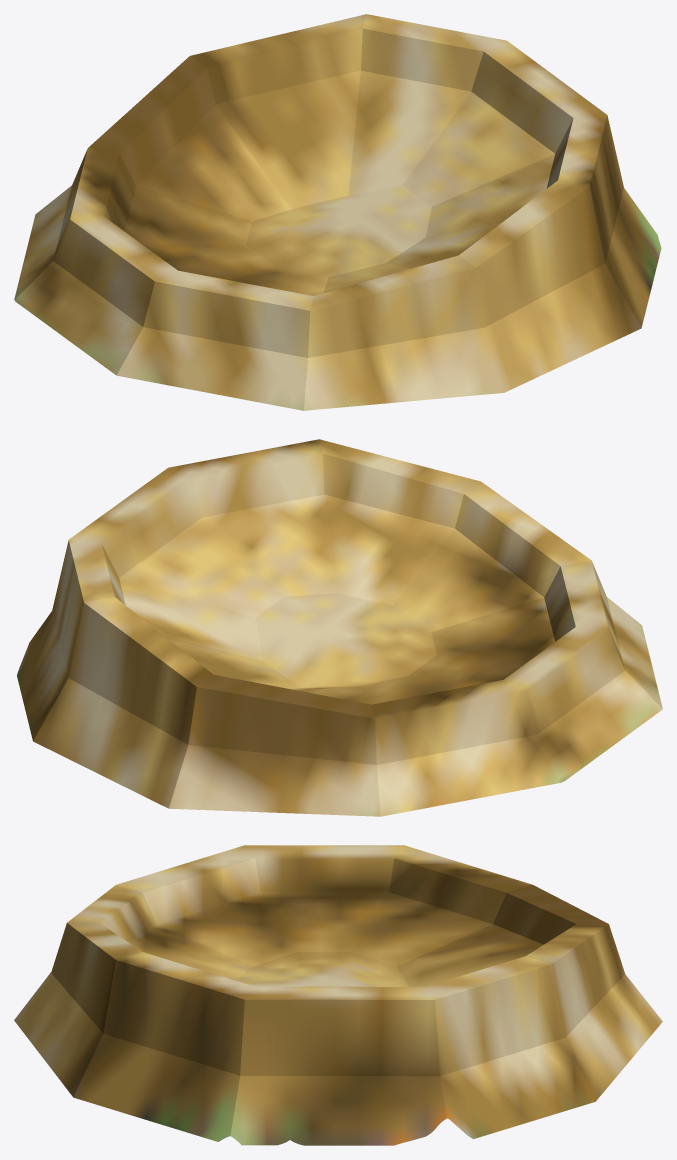
File: Poly_World_Map_Crater_01.obj
3 renders of one model, top to bottom at view 1: azimuth 30°, elevation 25°; view 2: azimuth 150°, elevation 25°; view 3: azimuth 270°, elevation 25°, orthographic. The views are drawn at different scales.
Visible parts, largest first — view 1: Grid.001; view 2: Grid.001; view 3: Grid.001.
Part boxes in pixels (x1,y1,x2,y2): Grid.001: (14,14,661,410); Grid.001: (17,439,662,816); Grid.001: (14,845,662,1145).
Bounding box in the file's own units: 0.9007 × 0.2083 × 0.9864.
Materials: 1 (1 with a texture image).
